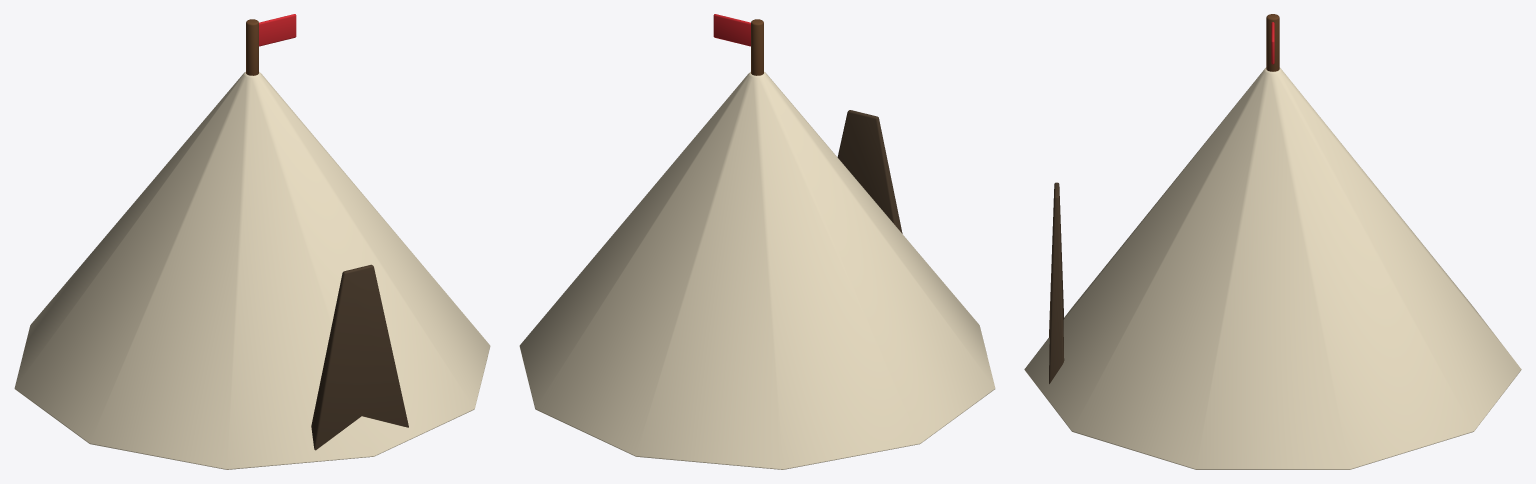
Rendered from tent.glb.
3 views of the same model, side by side, from view 1: azimuth 30°, elevation 25°; view 2: azimuth 150°, elevation 25°; view 3: azimuth 270°, elevation 25° (orthographic). The views are drawn at different scales.
Parts seen in each view (by area): view 1: tent; view 2: tent; view 3: tent.
Boxes of the visible parts, bbox=[...] form: tent: bbox=[14, 14, 490, 469]; tent: bbox=[519, 14, 995, 469]; tent: bbox=[1024, 14, 1521, 469].
Bounding box in the file's own units: 2.84 × 2.35 × 2.99.
